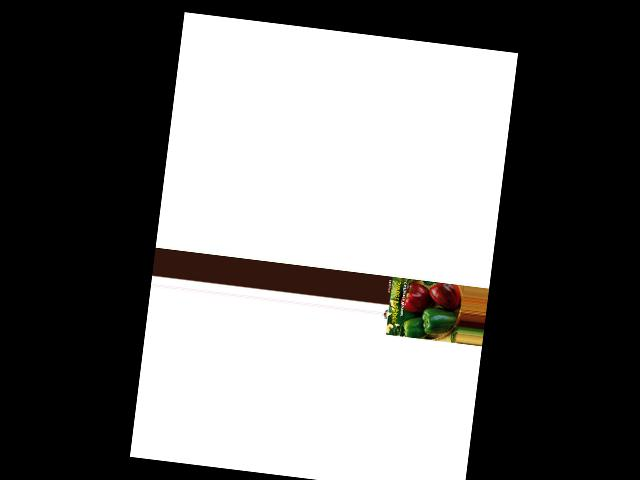bell_pepper: (399, 317, 432, 341)
